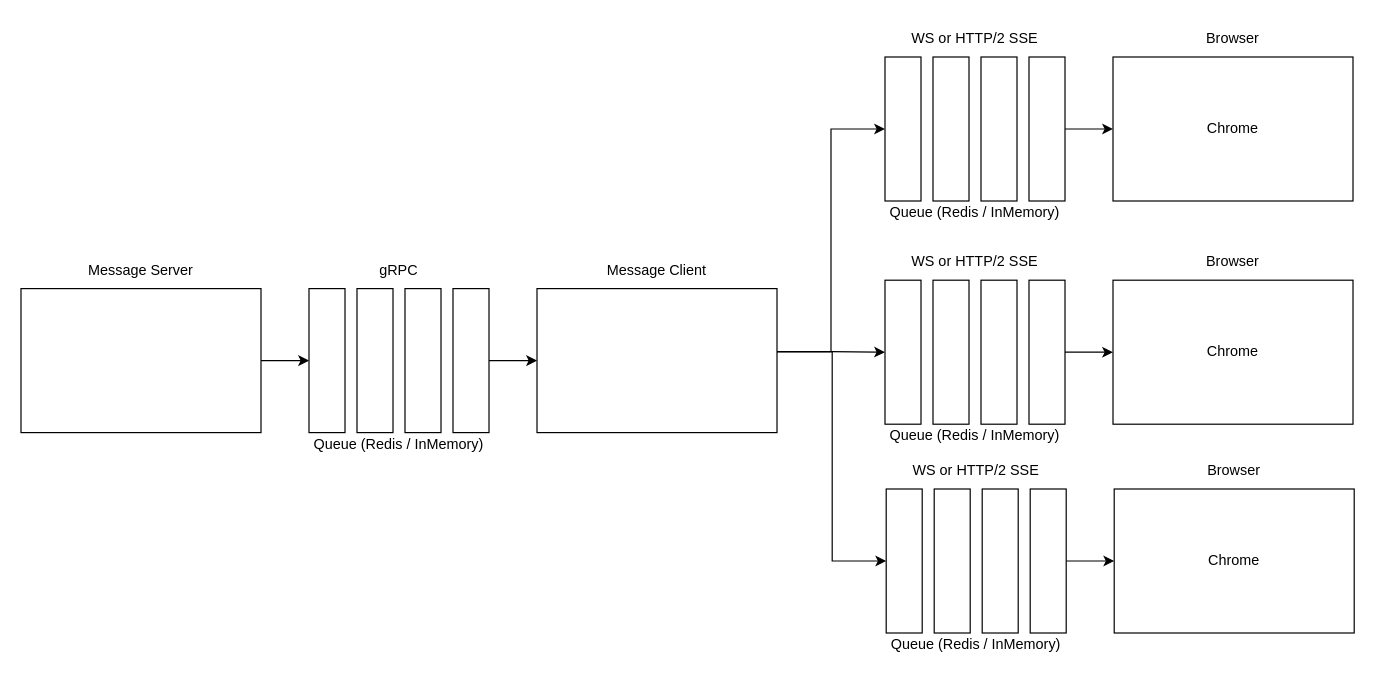
Image size: 1375x677. Some labels were removed from this diagram. Each missing label, with the centre of its shape:
Microservice Architecture: point 140,360
Web Server: point 656,360
